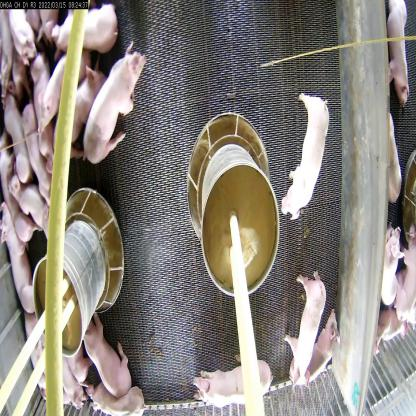Pig: (77, 44, 148, 166), (285, 85, 330, 232), (0, 204, 40, 322), (201, 350, 273, 415), (81, 310, 134, 396), (289, 255, 321, 393), (20, 114, 54, 205), (296, 309, 337, 384), (36, 59, 81, 124), (8, 4, 48, 76), (88, 372, 151, 415), (66, 70, 105, 136), (16, 186, 55, 252)
